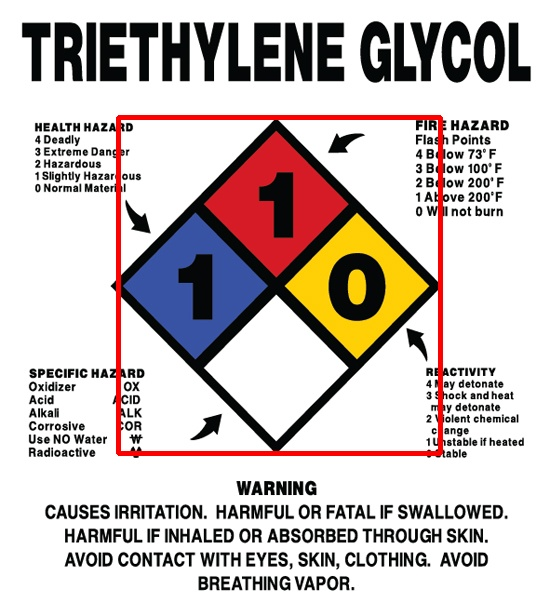nfpa: (118, 117, 440, 453)
